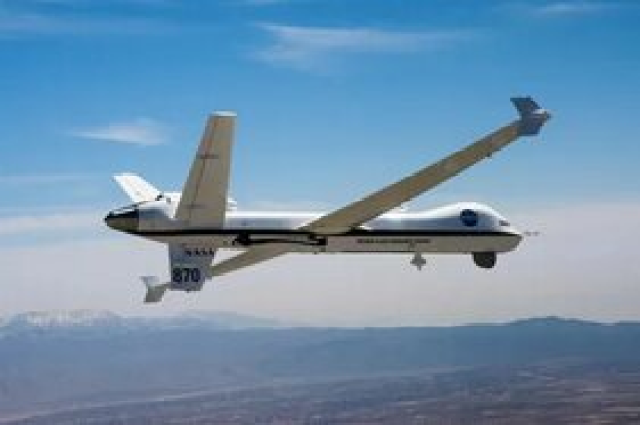military drone: (103, 94, 554, 304)
